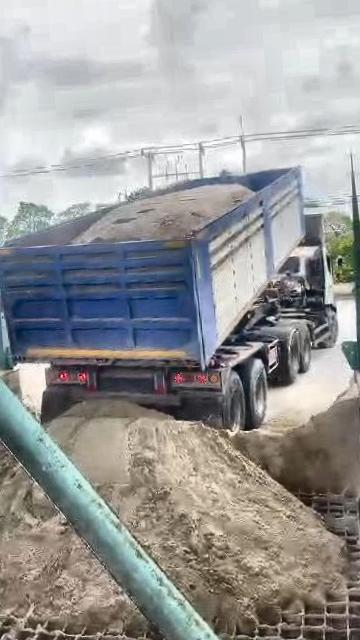sand: (50, 403, 344, 631), (0, 458, 144, 630), (232, 385, 360, 496), (74, 183, 254, 242), (0, 410, 5, 472)
